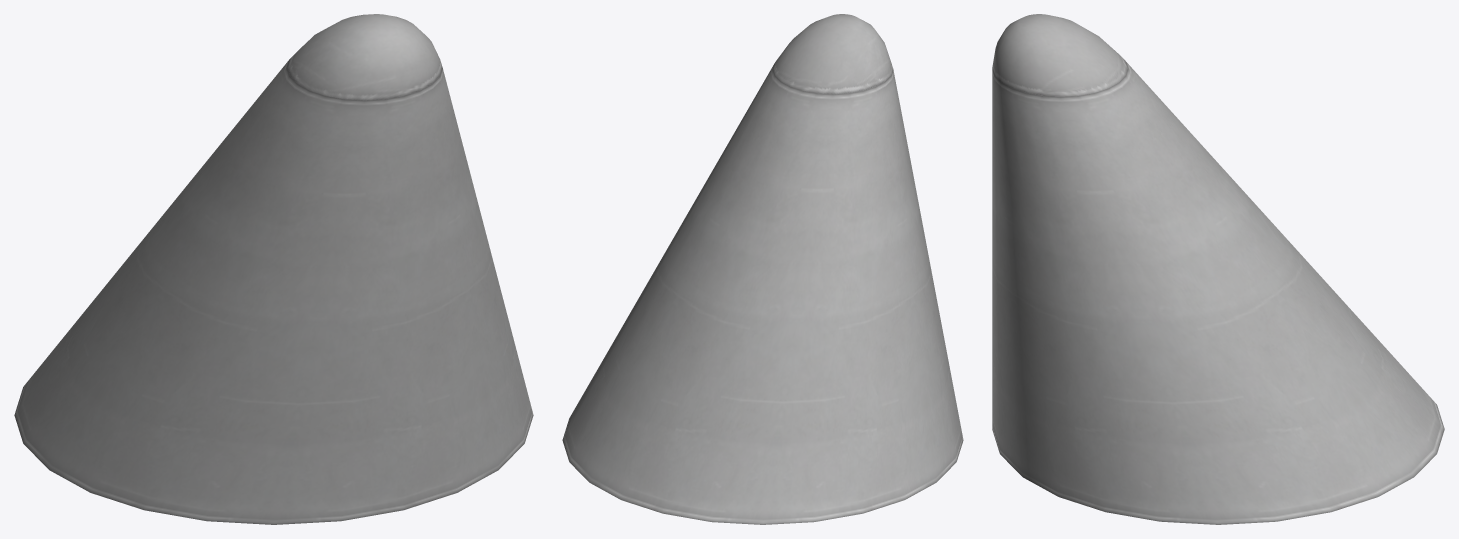
File: nose angle.obj
The picture shows the model from 3 angles, left to right: view 1: azimuth 30°, elevation 25°; view 2: azimuth 150°, elevation 25°; view 3: azimuth 270°, elevation 25°; orthographic projection. The views are drawn at different scales.
Parts seen in each view (by area): view 1: nose; view 2: nose; view 3: nose.
Boxes of the visible parts, x1,y1,x2,y2 form: nose: [14, 14, 533, 524]; nose: [562, 14, 963, 524]; nose: [992, 14, 1444, 524].
Bounding box in the file's own units: 1.25 × 1.25 × 1.25.
1 material, 1 textured.
